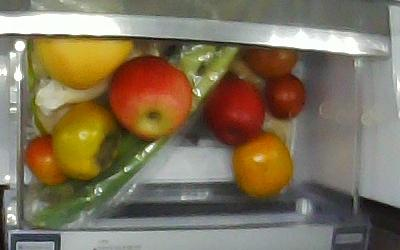apple: (108, 56, 191, 139), (204, 80, 265, 146)
grapefruit: (39, 34, 131, 92)
persimmon: (52, 104, 122, 178), (233, 135, 293, 198)
prune: (25, 135, 69, 186), (263, 74, 304, 120), (243, 46, 298, 79)
